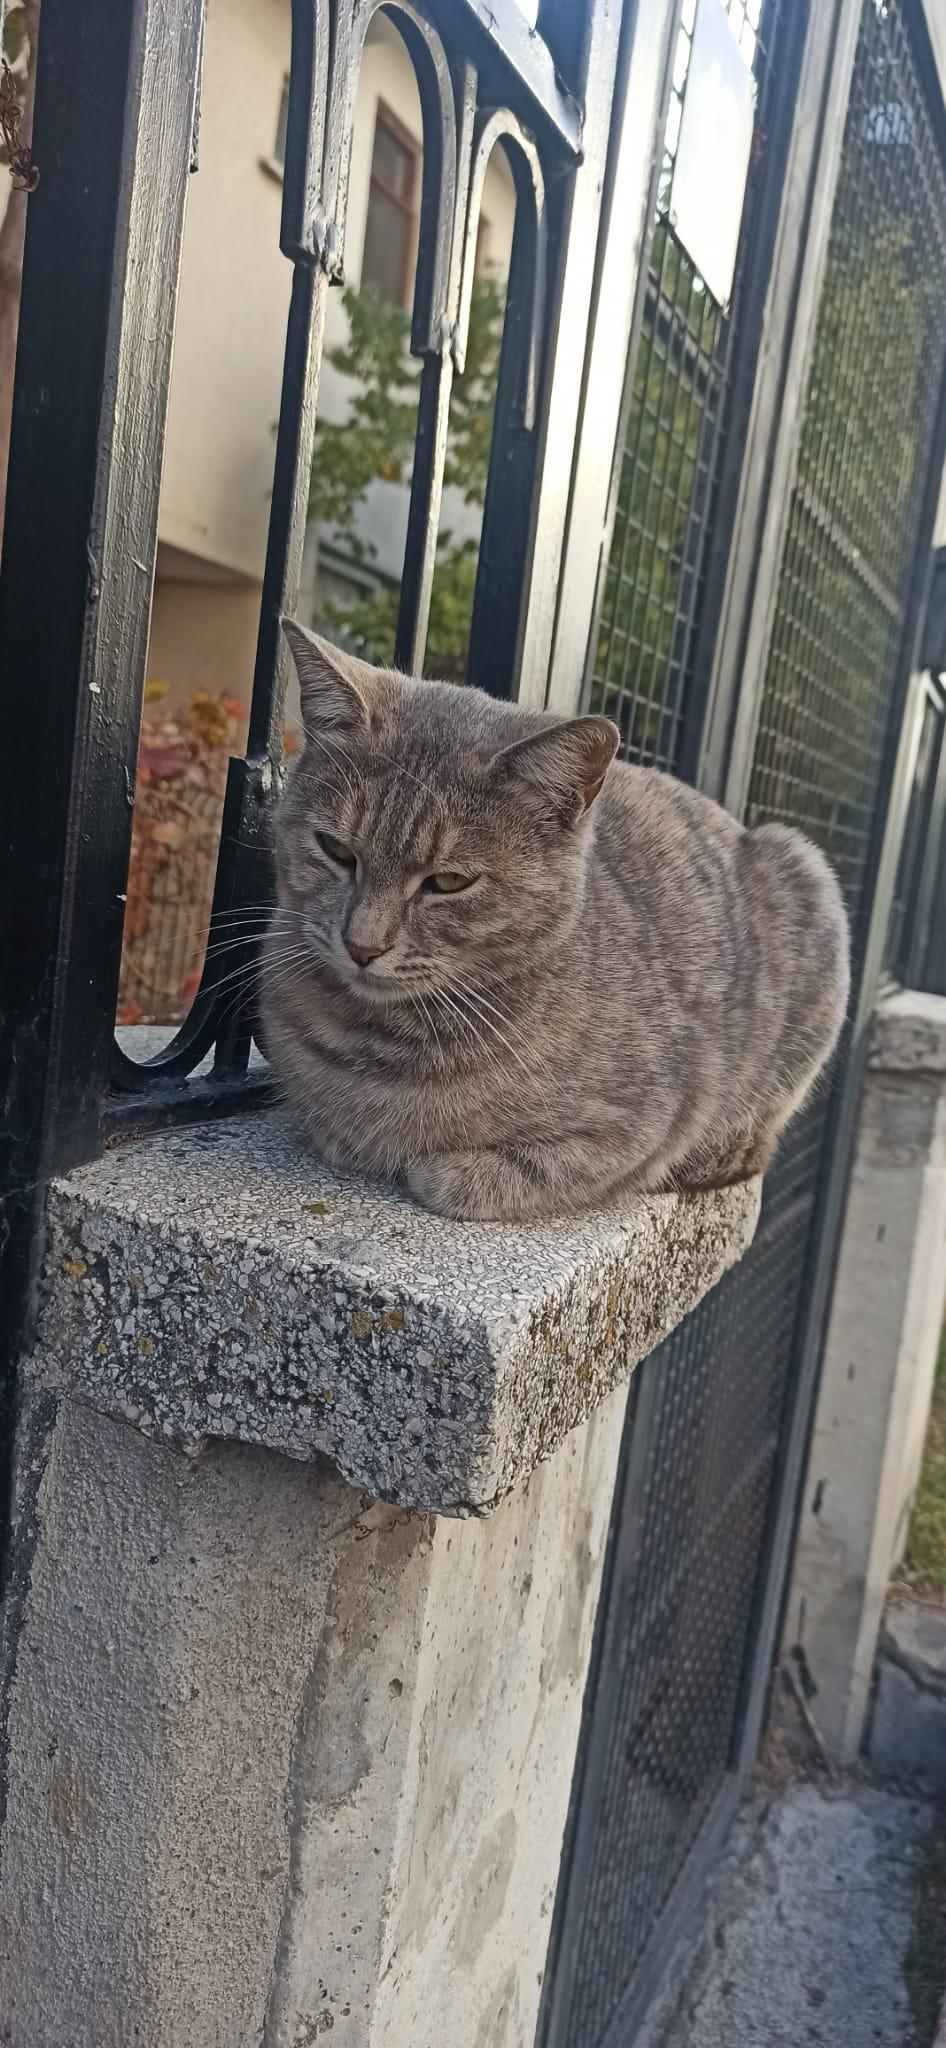kedo: (267, 620, 847, 1219)
